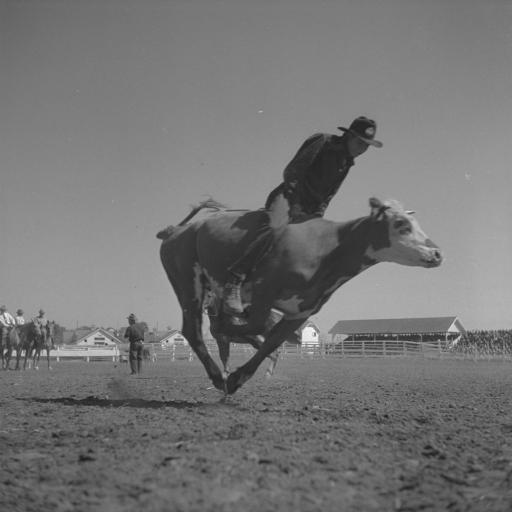horse: (0, 318, 41, 370), (4, 324, 48, 370), (20, 318, 56, 372)
